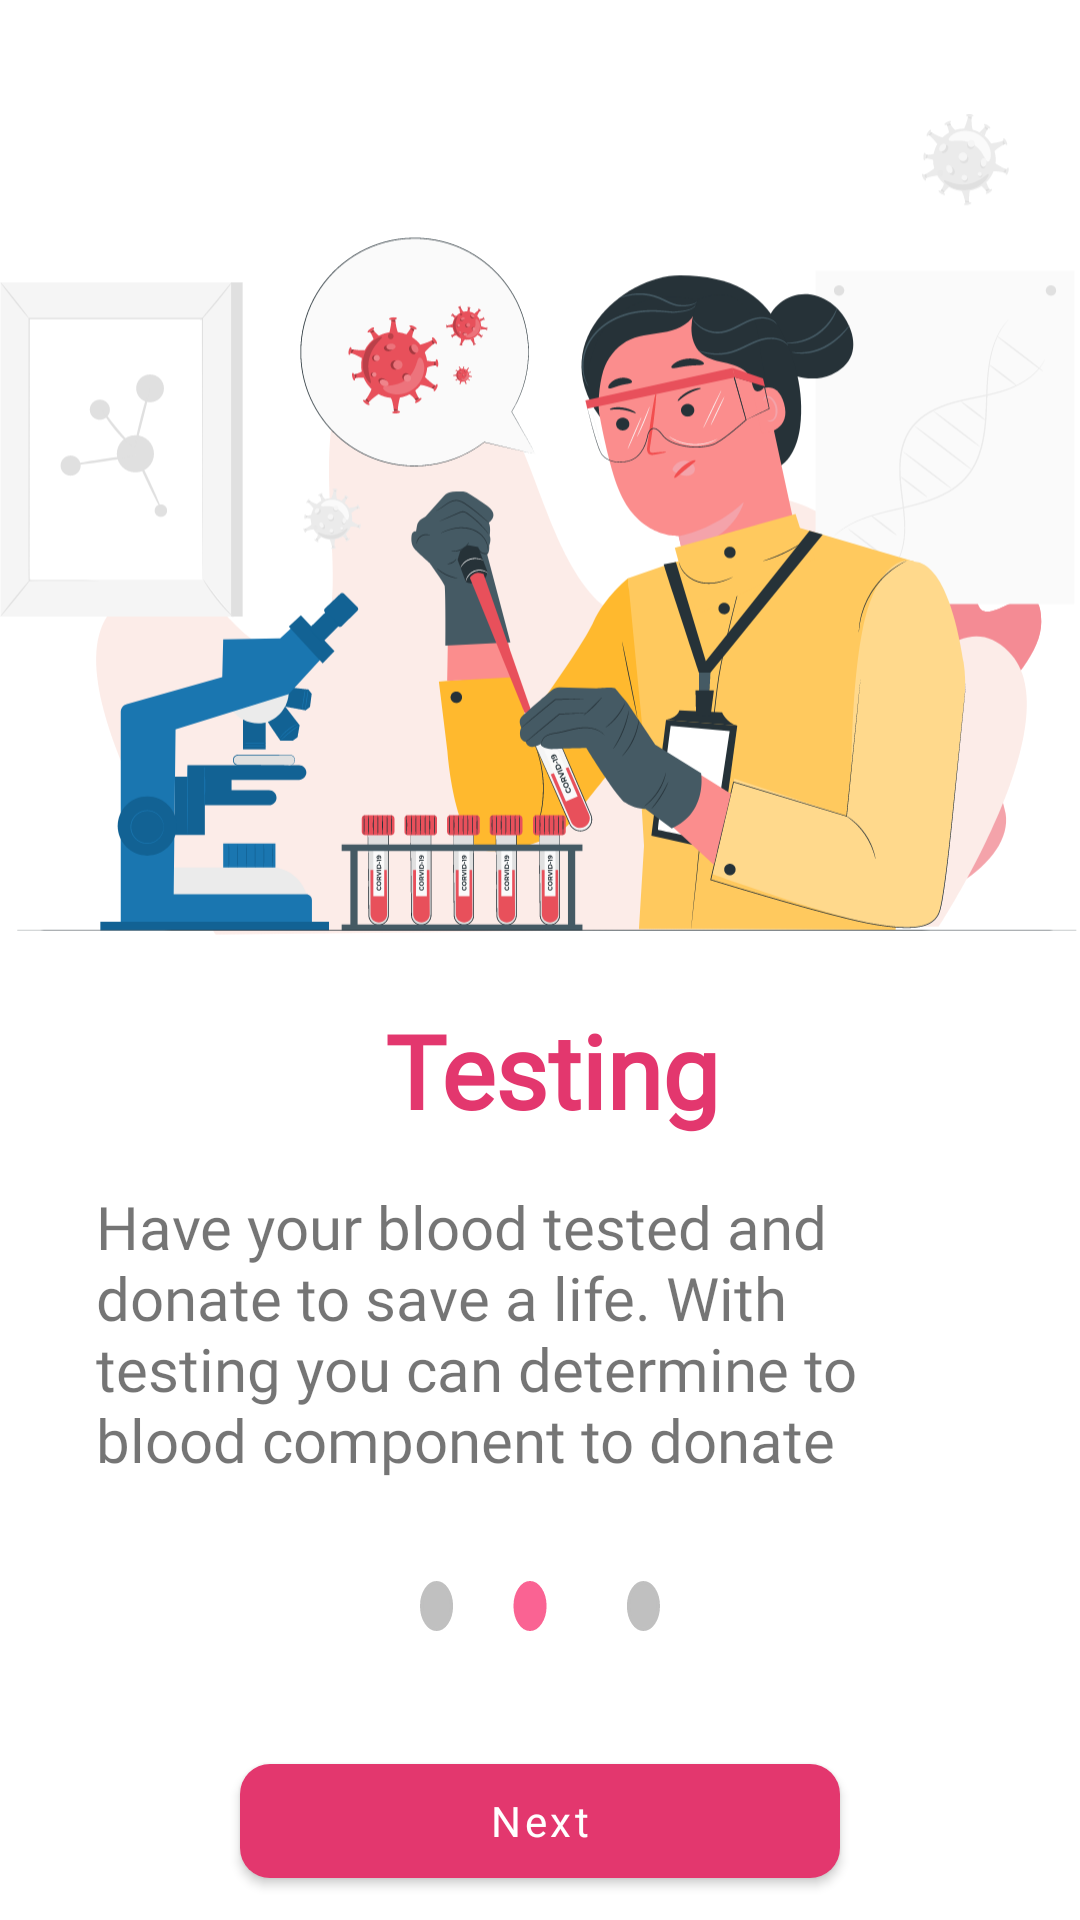

Named icons in this screenshot (1080px x 1920px) and their bounding boxes, {"left": x1, "top": y1, "right": x2, "bottom": y2}:
dots: {"left": 420, "top": 1581, "right": 660, "bottom": 1631}
